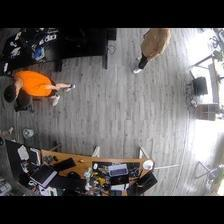normal: (4, 69, 74, 106), (131, 28, 171, 74)
